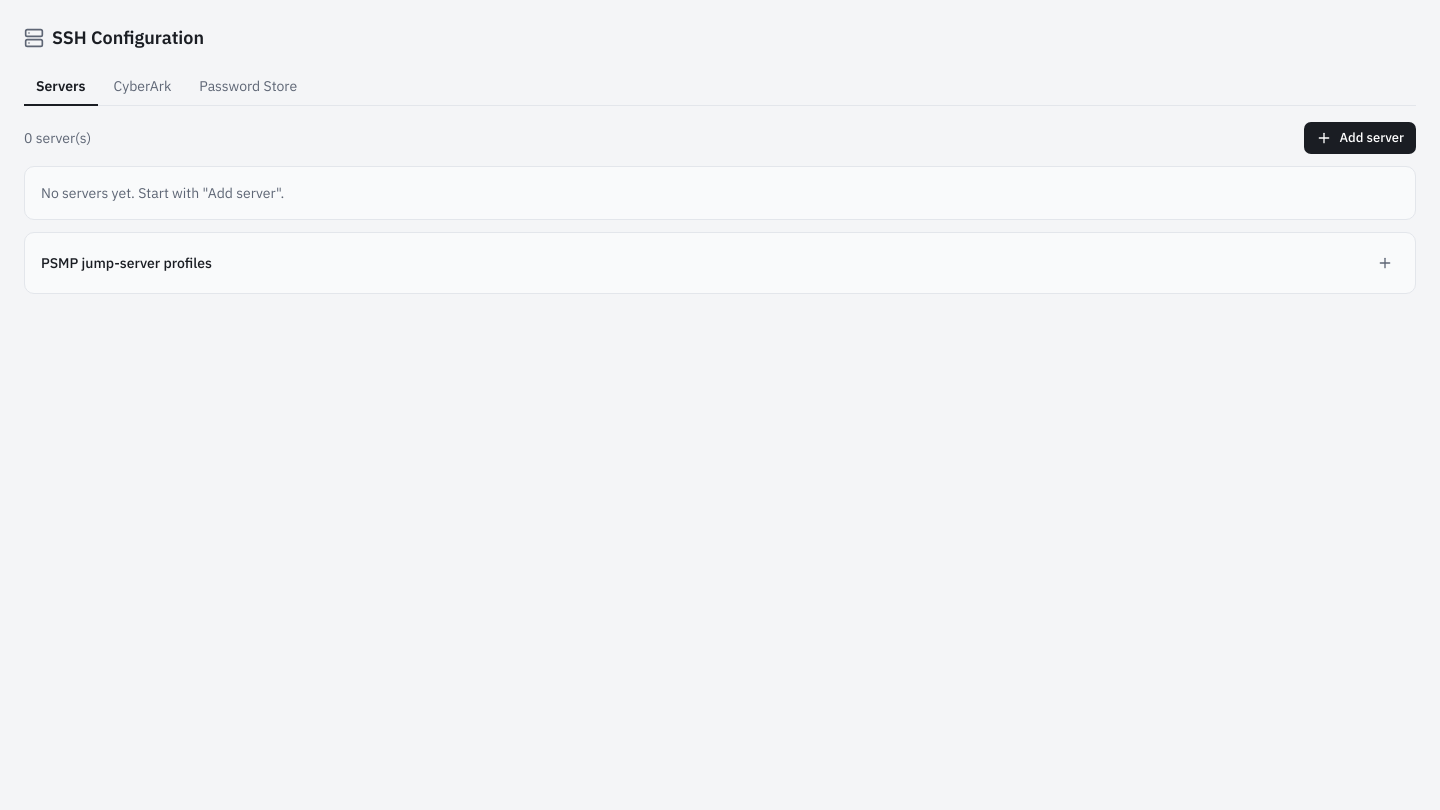
it: SshPage — Servers › starts empty and adds a server
Expected: the text "No servers yet. Start with \"Add server\"." is shown, [24,166,1416,220]
Click the button "Add server". click: (1360, 138)
box: [1304,122,1416,154]
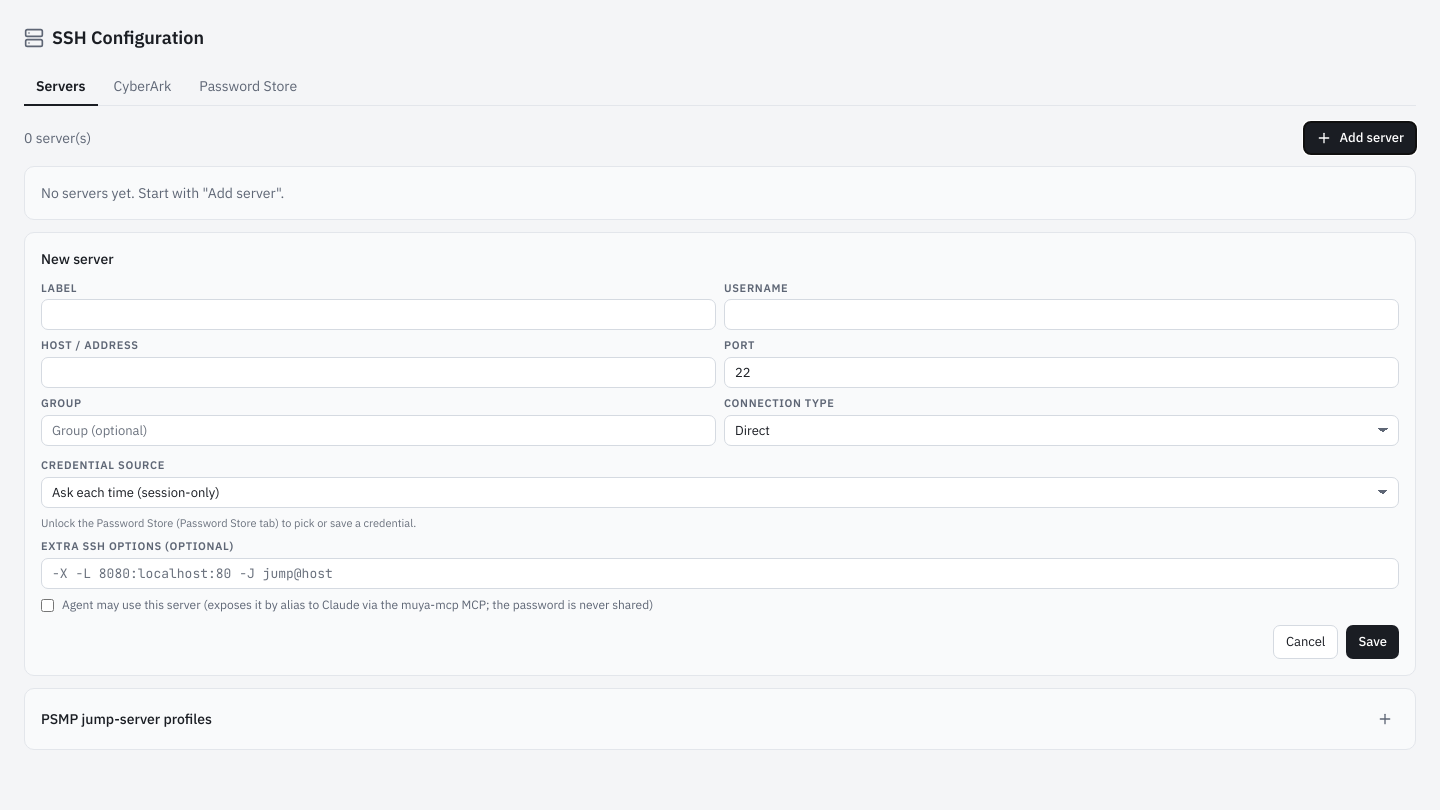
Type "oracle" into the field labelled "Username". click: (1062, 315)
box: [724,299,1399,330]
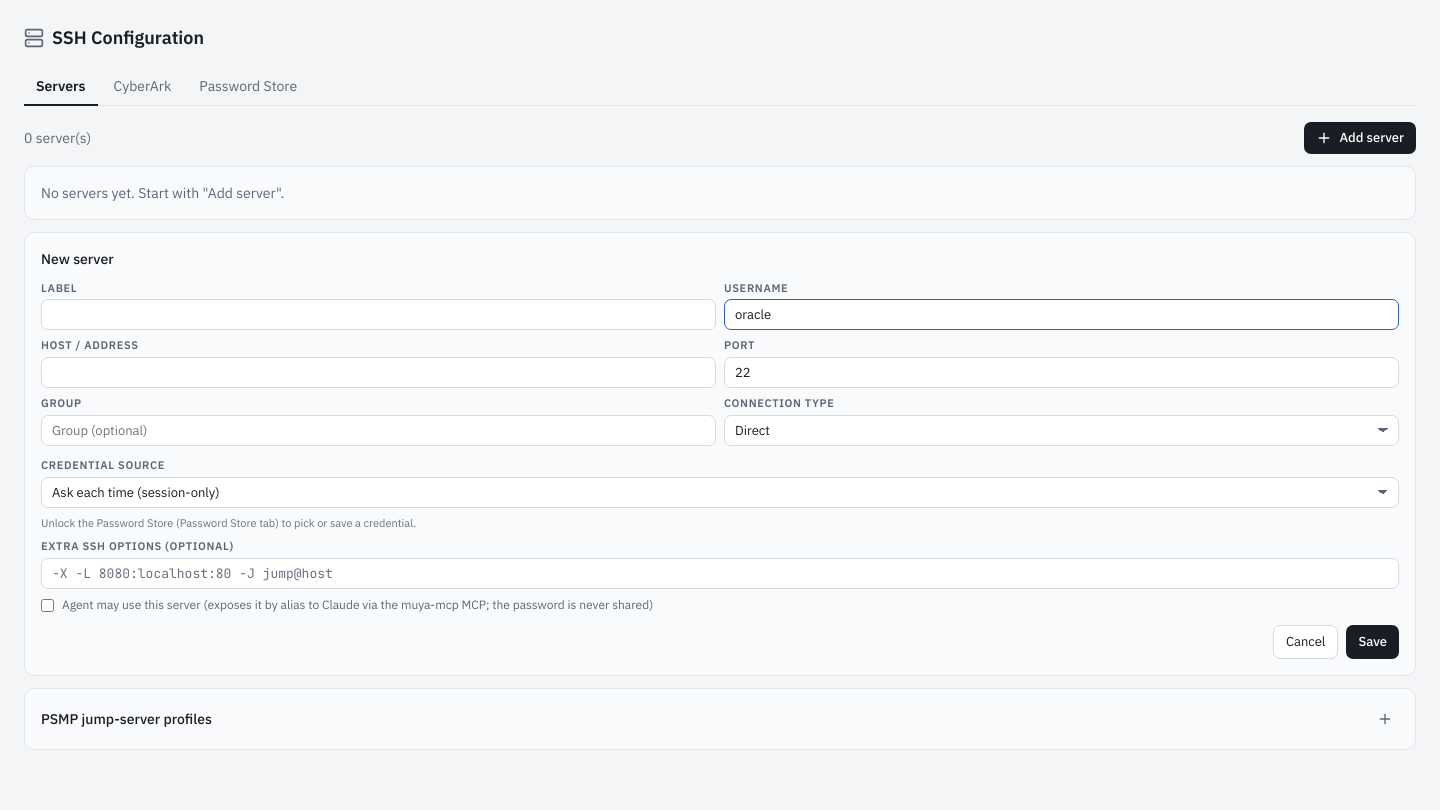
Type "10.0.0.5" into the field labelled "Host / address". click: (378, 373)
box: [41,357,716,388]
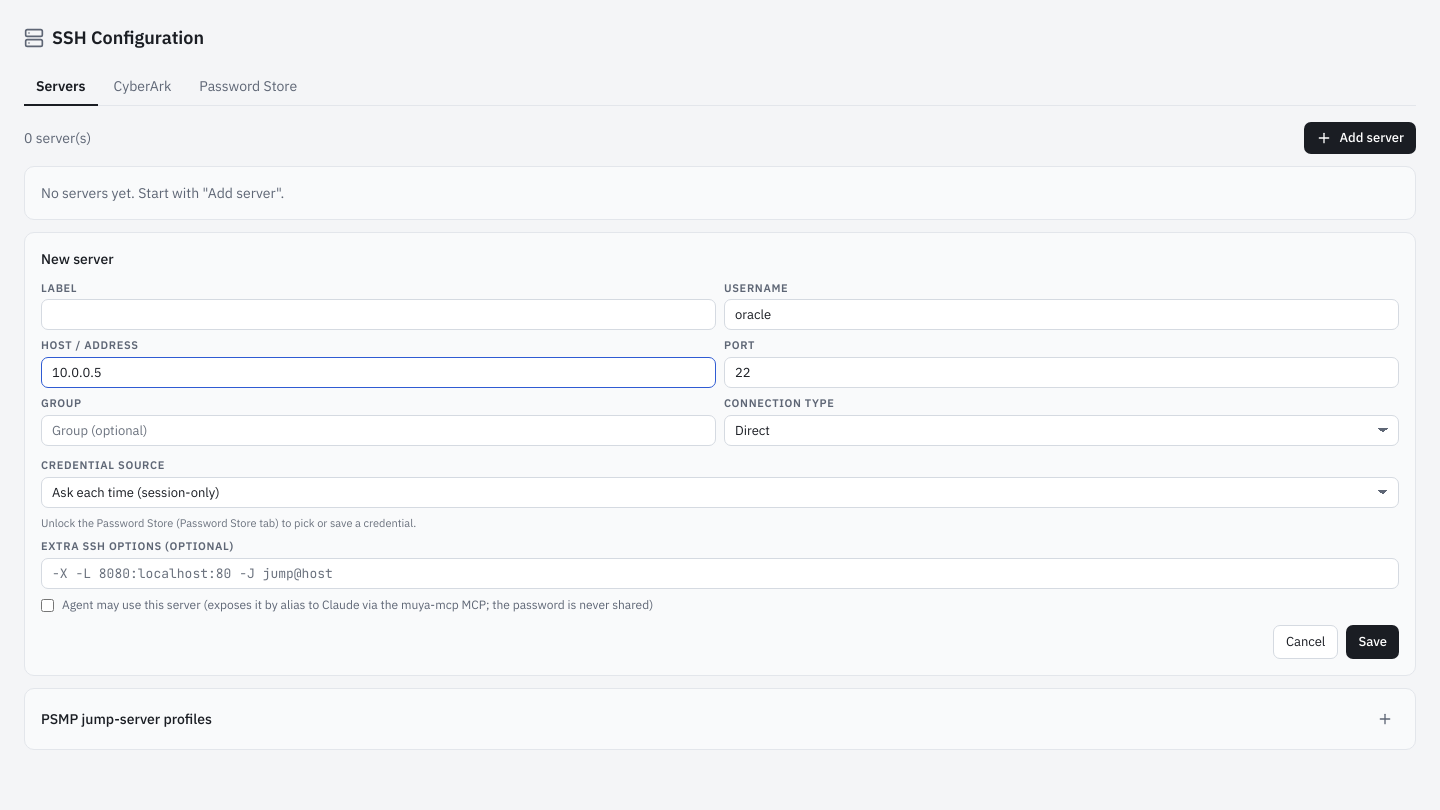
Click the button "Save". click: (1373, 642)
box: [1346,625,1399,659]
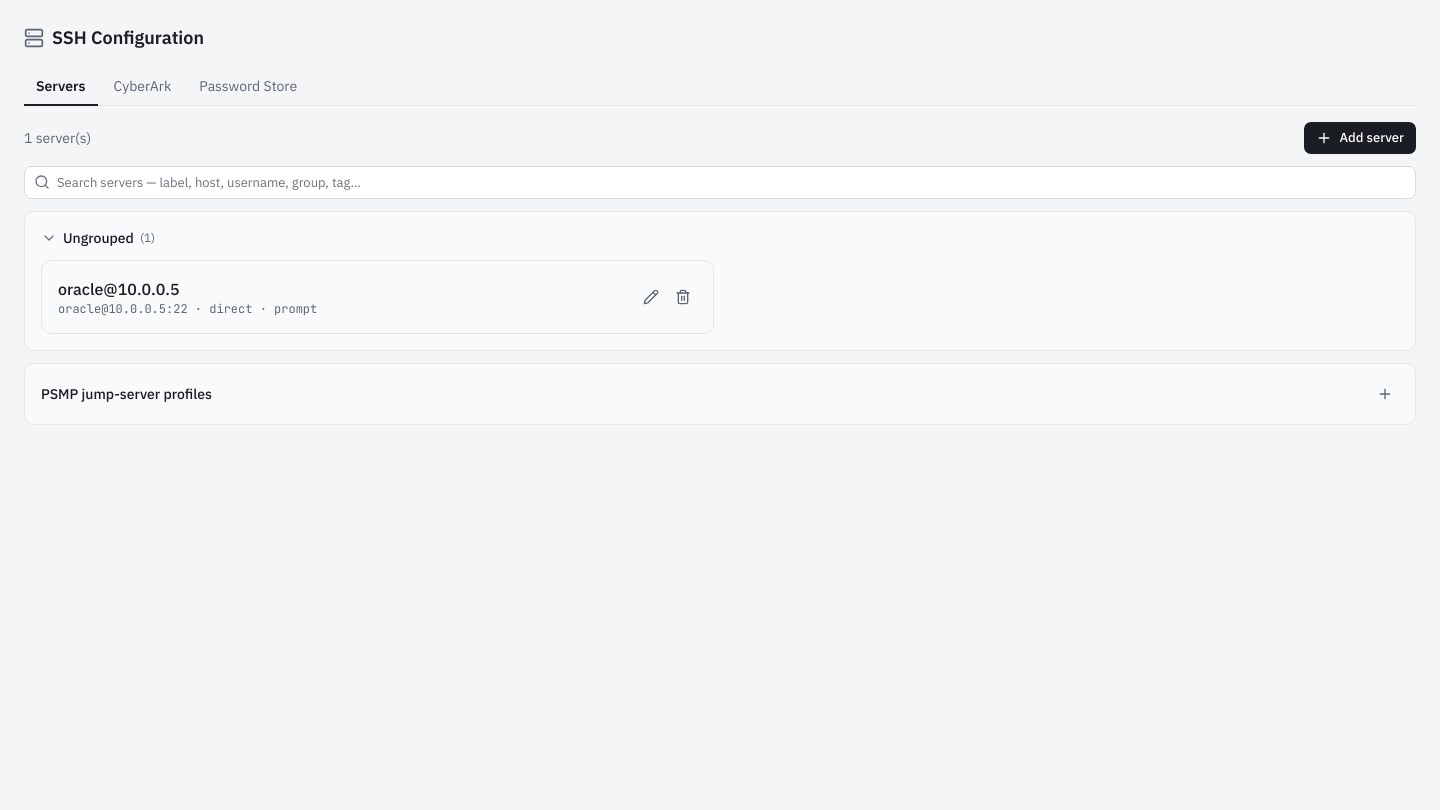
Now the text "oracle@10.0.0.5:22 · direct · prompt" is shown, box [58,301,317,317]
